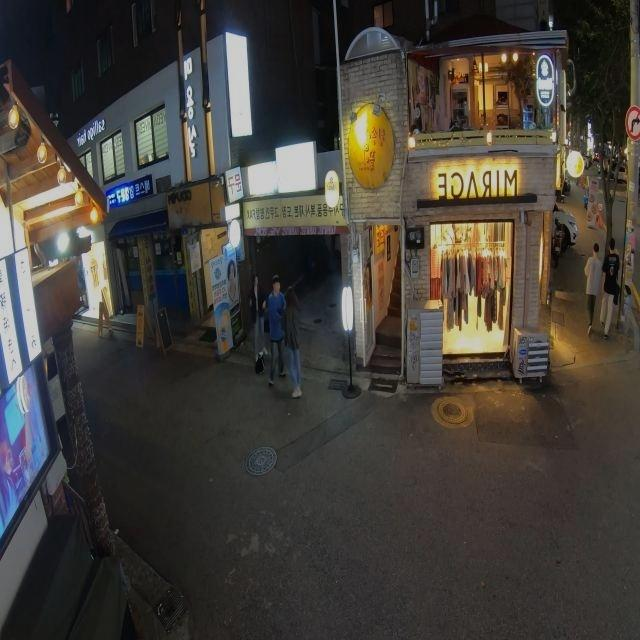non-fight: (277, 288, 306, 398), (264, 273, 288, 384), (248, 273, 270, 377)
